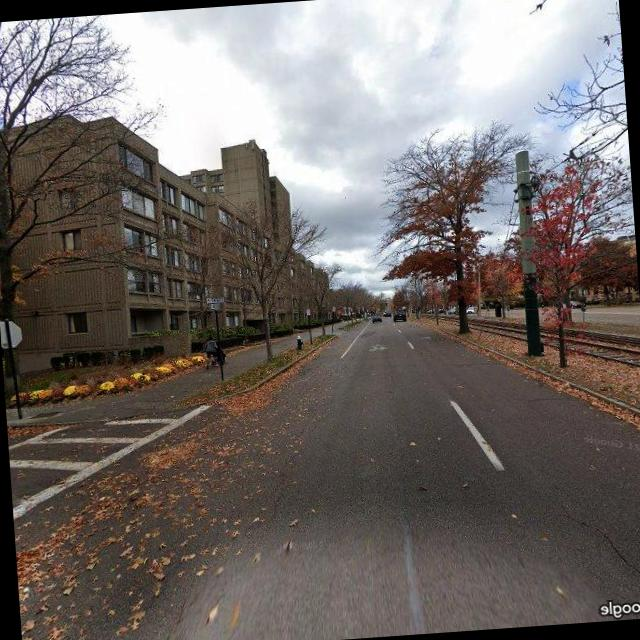pothole: (563, 501, 640, 607)
